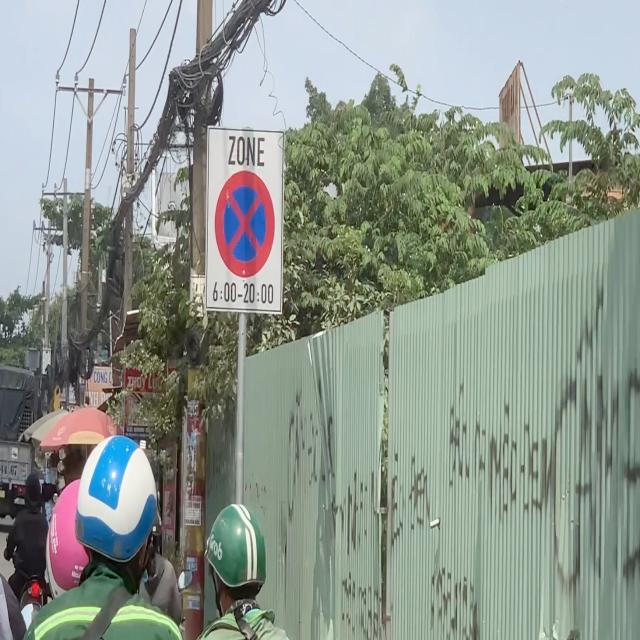Cam dung va do: (214, 170, 276, 278)
